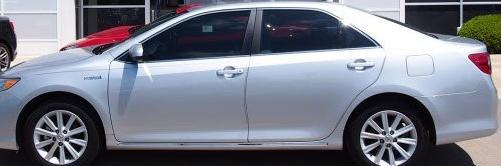Cars: (1, 5, 498, 165)
